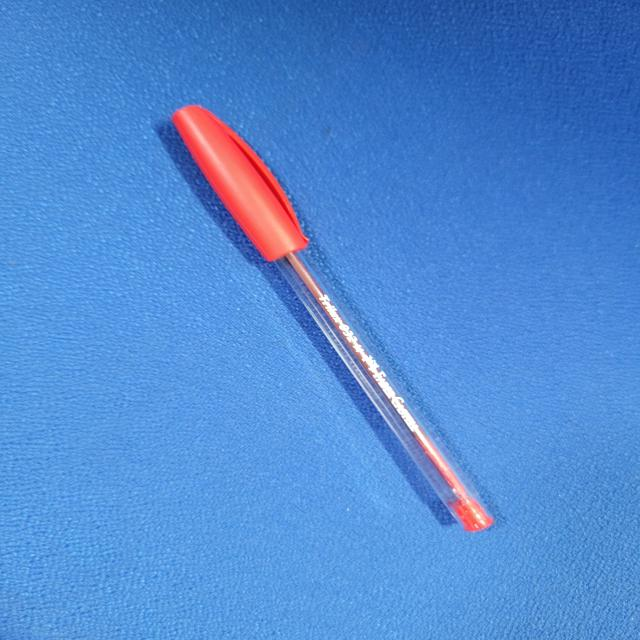caneta: (155, 96, 520, 540)
